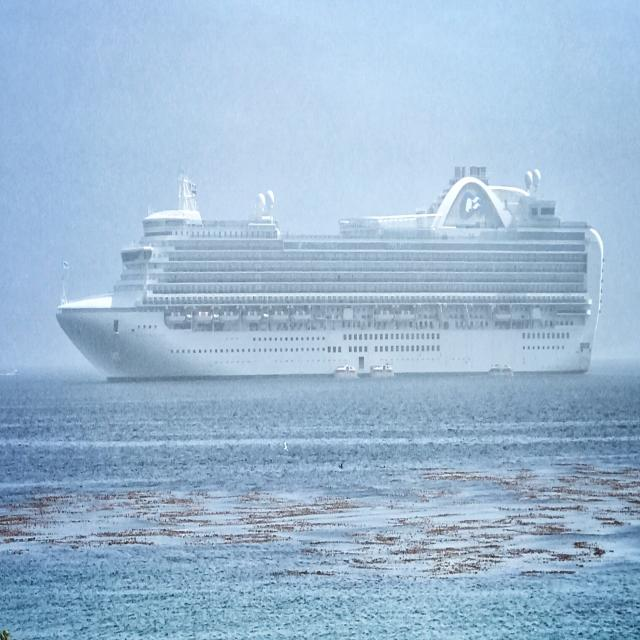passenger ship: (49, 147, 607, 388)
